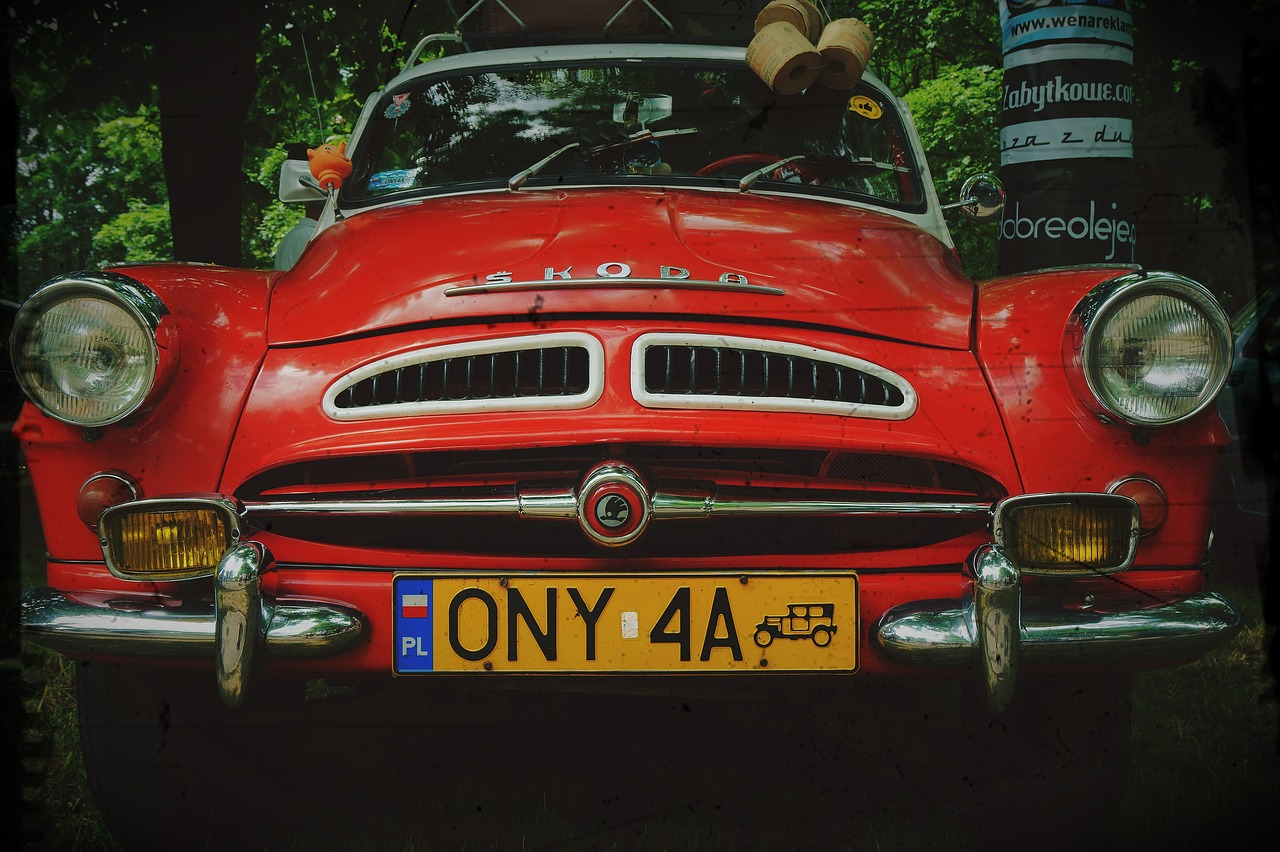number_plate: (395, 574, 861, 675)
